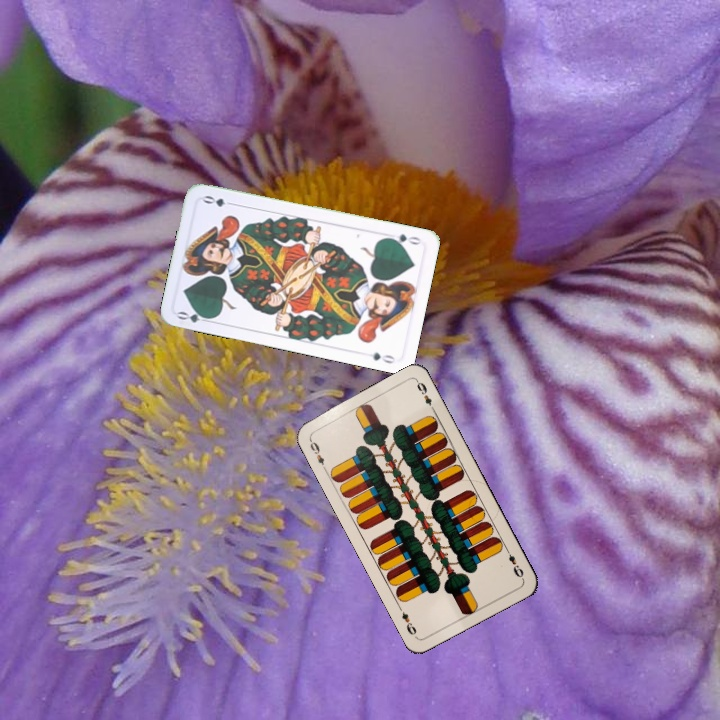E9: (305, 435, 329, 473), (502, 544, 526, 580)
GO: (174, 306, 215, 325), (383, 230, 424, 247)
